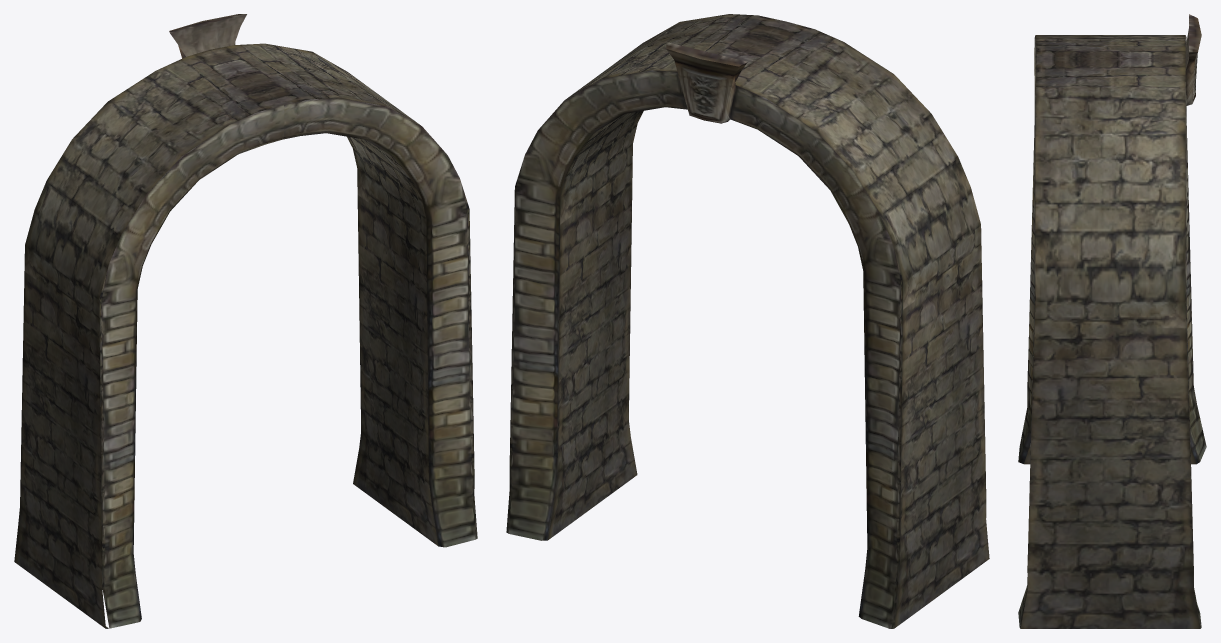
File: DN_1_4_ldao06a.FBX
The picture shows the model from 3 angles, left to right: view 1: azimuth 30°, elevation 25°; view 2: azimuth 150°, elevation 25°; view 3: azimuth 270°, elevation 25°; orthographic projection. The views are drawn at different scales.
Parts seen in each view (by area): view 1: DN_1_4_ldao06a; view 2: DN_1_4_ldao06a; view 3: DN_1_4_ldao06a.
Part boxes in pixels (left/top/right/bottom): DN_1_4_ldao06a: left=14, top=14, right=477, bottom=628; DN_1_4_ldao06a: left=506, top=14, right=989, bottom=628; DN_1_4_ldao06a: left=1018, top=14, right=1206, bottom=628.
Size of the model in its own units: 754 by 966 by 327.
